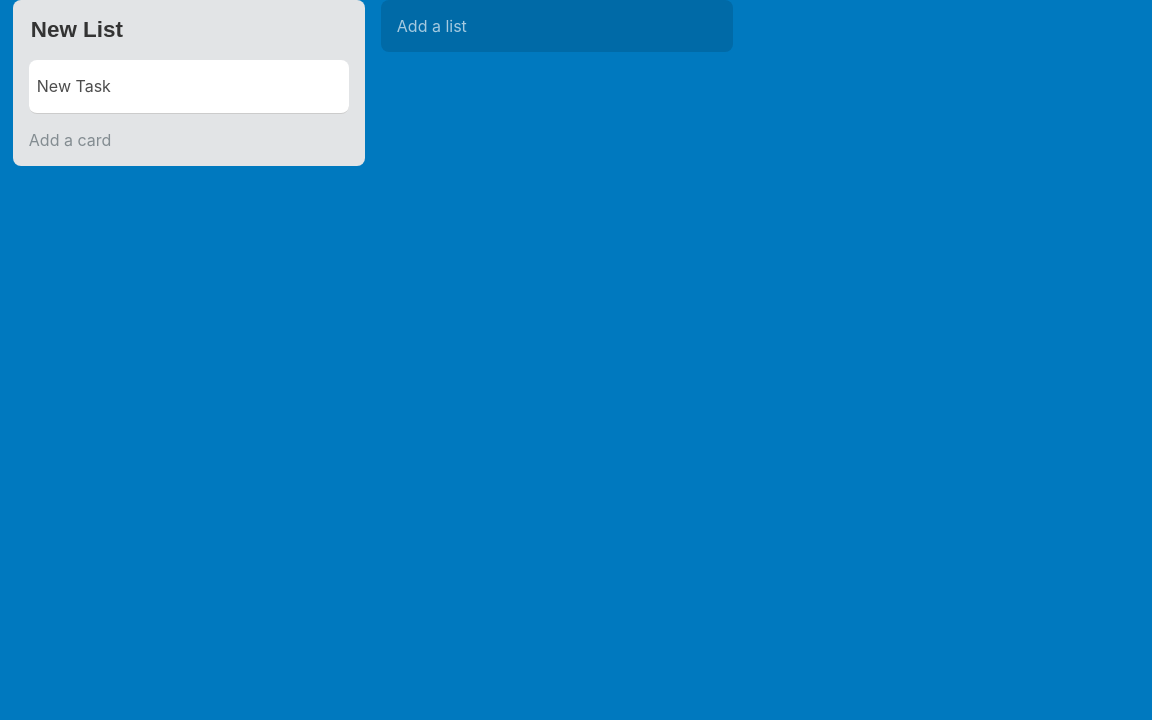
user behavior › modal display › shows modal on card click
Click the text "New Task".
click(74, 86)  # box [37,76,111,96]
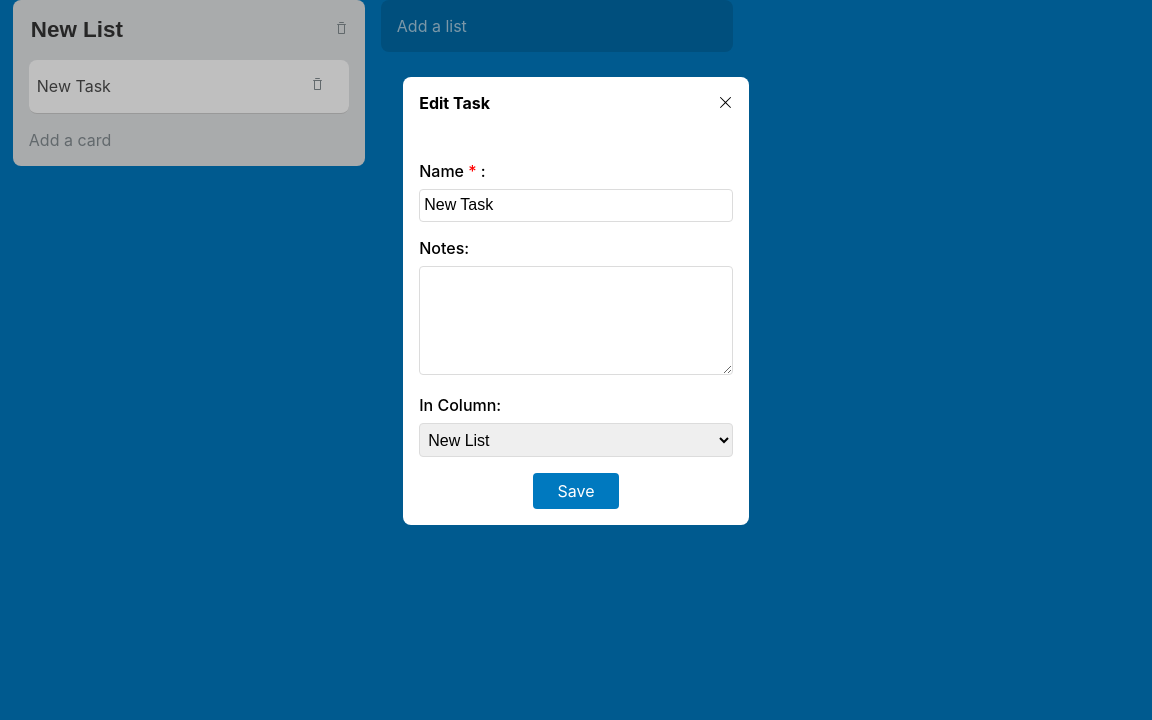
Result: the heading "Edit Task" is shown at [419,93,490,113]
